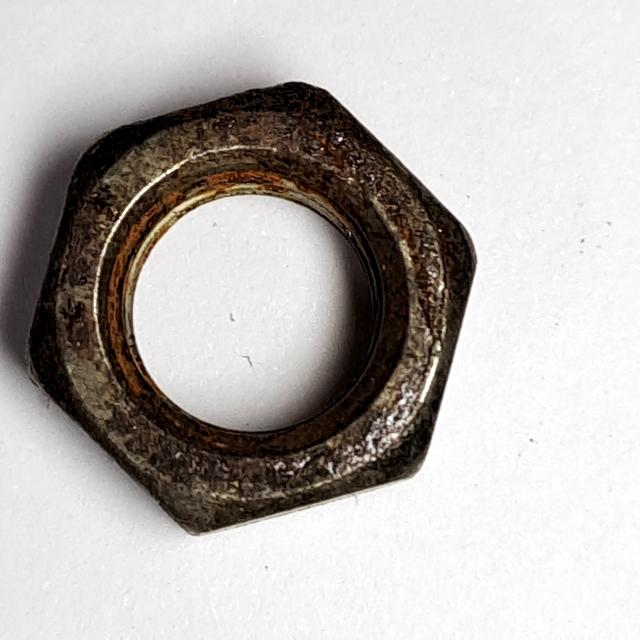Rust: (15, 64, 490, 551)
